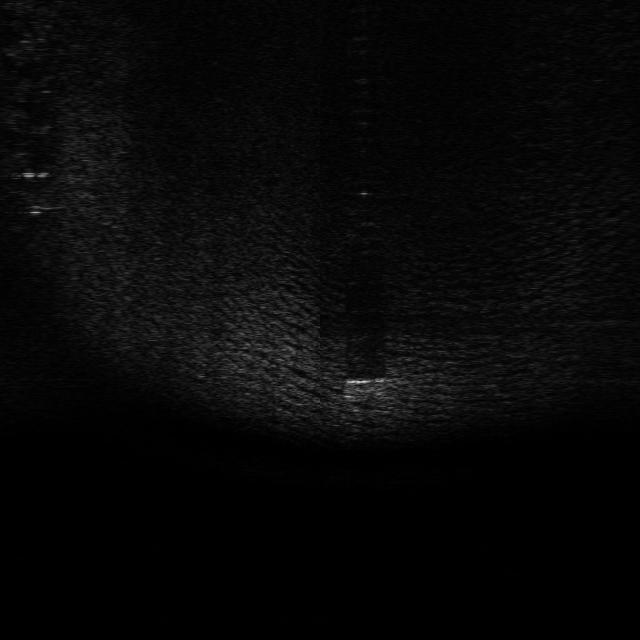cube: (342, 374, 392, 405)
